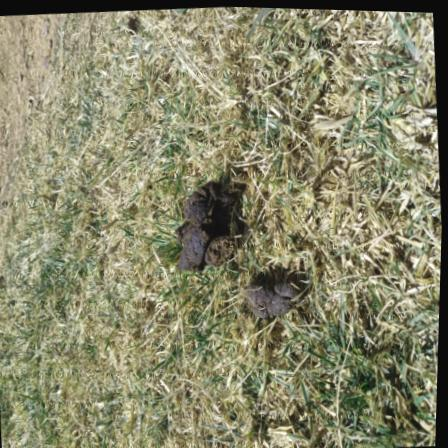dog-poop: (158, 153, 252, 287), (240, 255, 317, 329)
